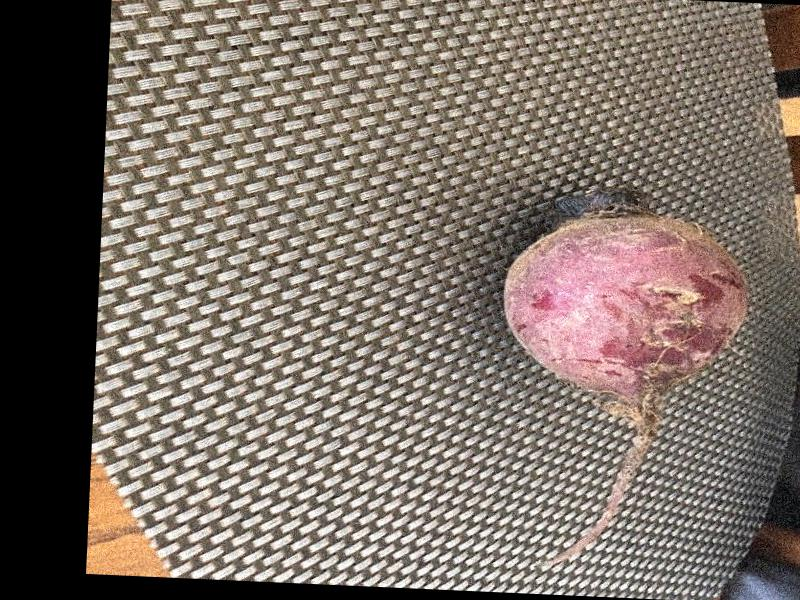Beet: (493, 178, 755, 570)
